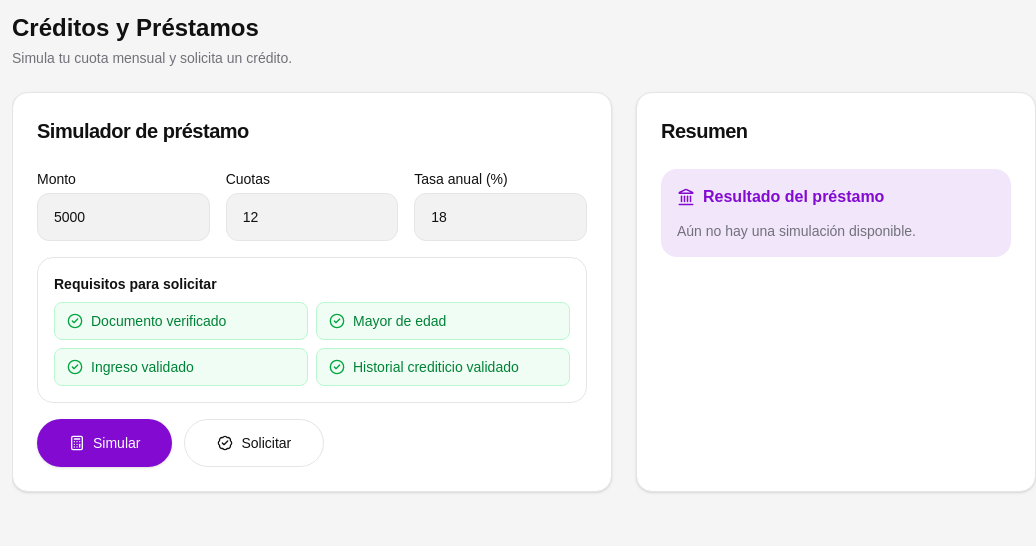
LoansClient › should create an eligible application and refresh loans
This screenshot has width=1036, height=546.
Click the button "Solicitar". click: [254, 443]
box: [184,419,324,467]
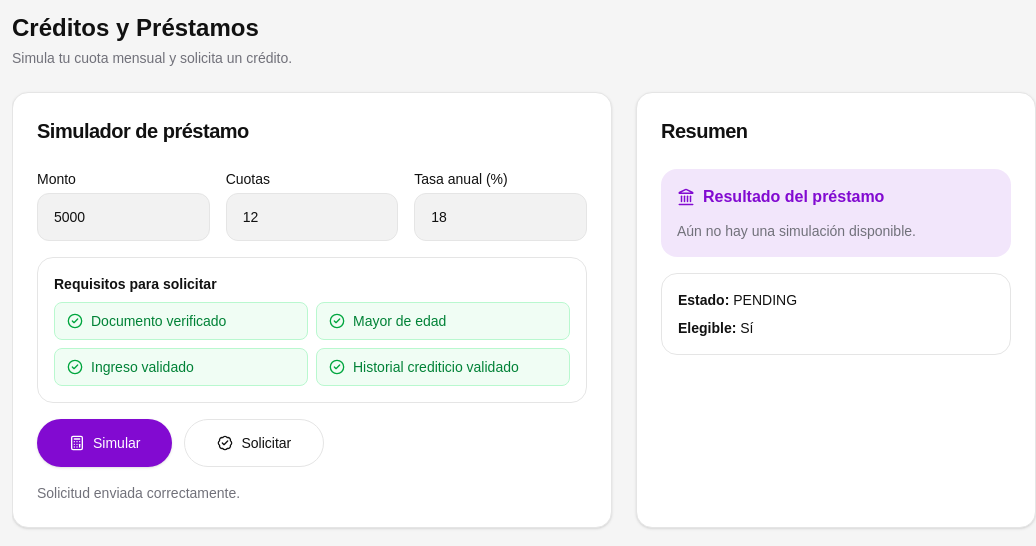
expect the text "Solicitud enviada correctamente." is shown: met, box [37,485,240,501]
expect the text "PENDING" is shown: met, box [733,292,797,308]
expect the text "Sí" is shown: met, box [740,320,754,336]
